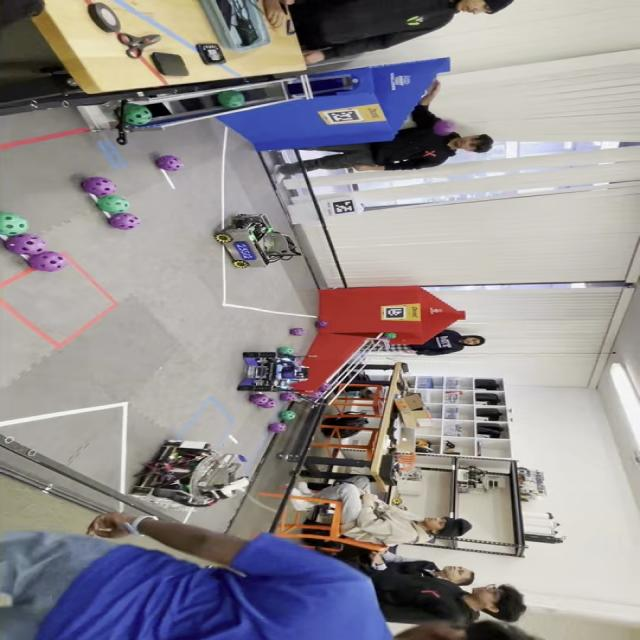artifact_green: (0, 213, 28, 236), (124, 104, 152, 125), (96, 196, 130, 213), (216, 90, 245, 108), (214, 233, 233, 243), (279, 410, 296, 421), (280, 392, 298, 401), (278, 347, 295, 355), (233, 260, 250, 268), (391, 497, 403, 506), (383, 332, 397, 339)
artifact_purple: (4, 234, 46, 255), (28, 252, 67, 271), (81, 177, 116, 197), (108, 214, 141, 229), (156, 156, 183, 171), (433, 120, 455, 135), (249, 394, 270, 405), (268, 422, 286, 433), (280, 392, 297, 401), (289, 327, 306, 336), (261, 398, 276, 408), (315, 320, 329, 328), (318, 384, 330, 392), (312, 391, 323, 398)
